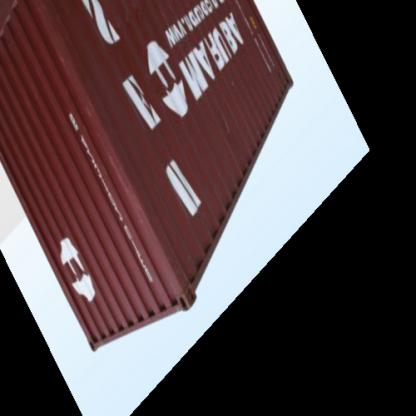Damage: (208, 101, 238, 164), (110, 8, 148, 38), (42, 48, 72, 70), (78, 101, 96, 130)
